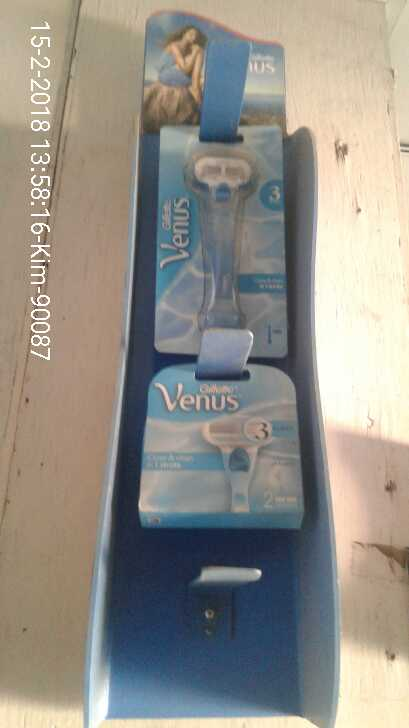venus: (152, 120, 289, 363), (135, 358, 310, 532)
